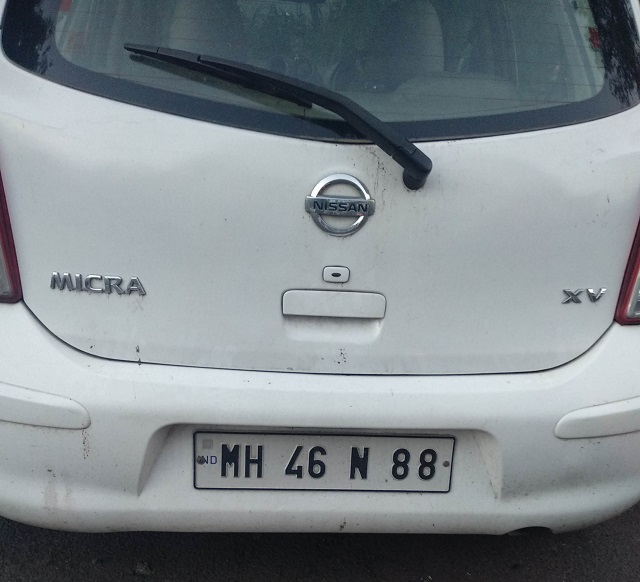licenseplate: (190, 428, 455, 497)
